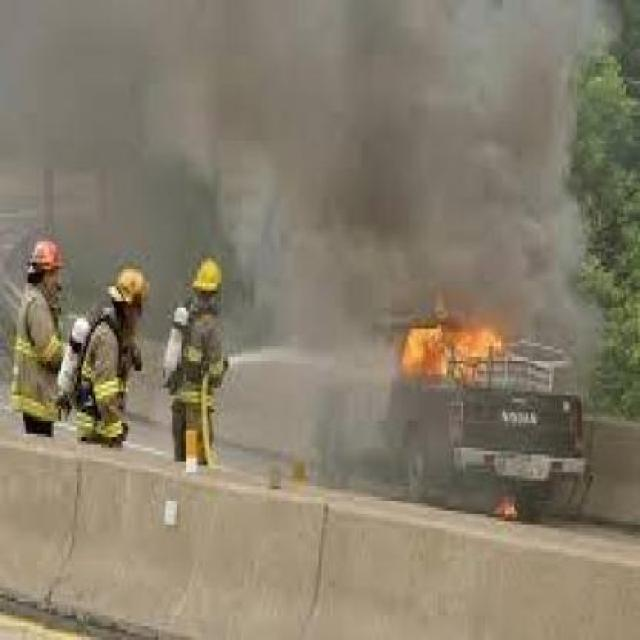Fire: (398, 310, 508, 381)
